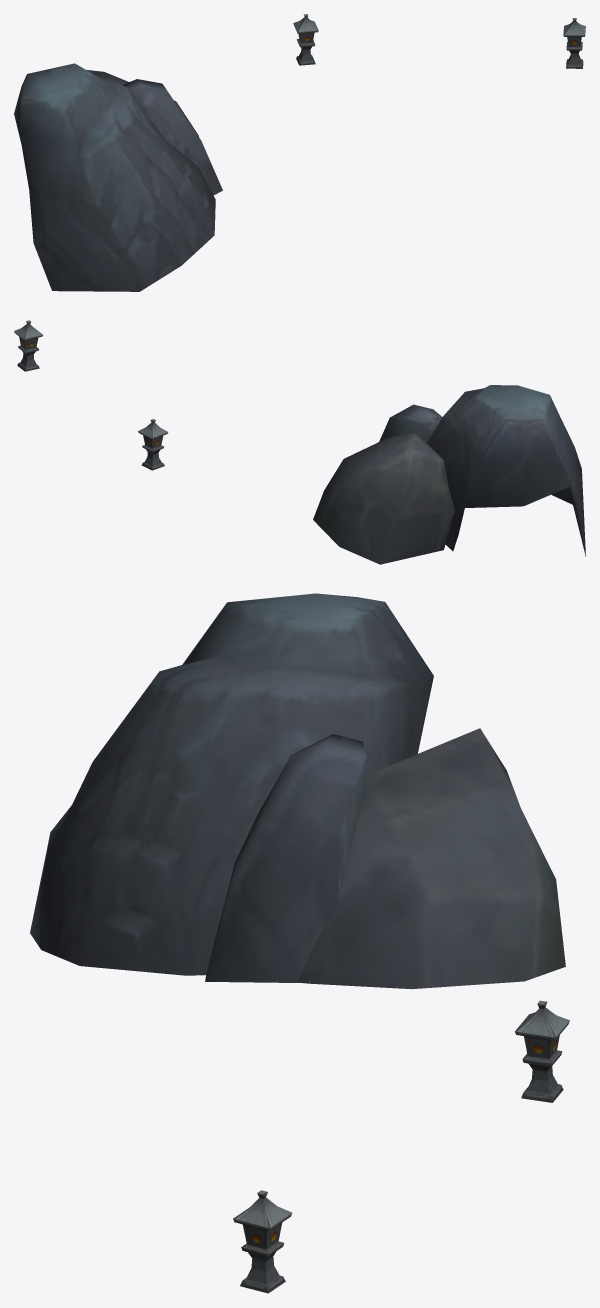
File: Area_12_53.fbx
3 renders of one model, top to bottom at view 1: azimuth 30°, elevation 25°; view 2: azimuth 150°, elevation 25°; view 3: azimuth 270°, elevation 25°, orthographic. The views are drawn at different scales.
Parts seen in each view (by area): view 1: Area_12_53; view 2: Area_12_53; view 3: Area_12_53.
Boxes of the visible parts, left/top/right/bottom form: Area_12_53: left=14, top=14, right=585, bottom=291; Area_12_53: left=14, top=320, right=585, bottom=564; Area_12_53: left=30, top=593, right=569, bottom=1293.
Bounding box in the file's own units: 2874 × 876 × 1210.
